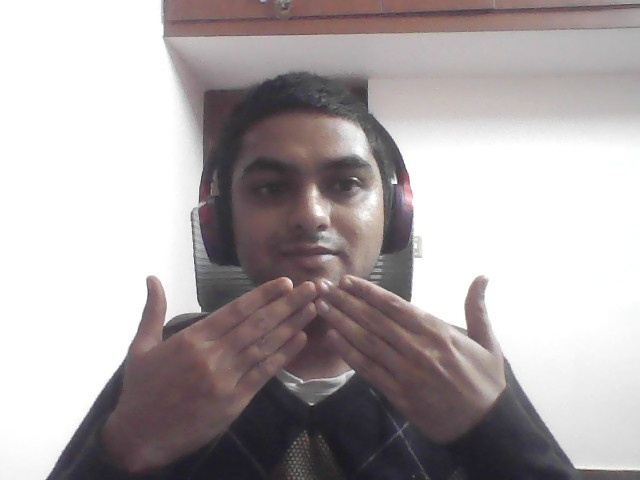Thank You: (93, 252, 517, 463)
